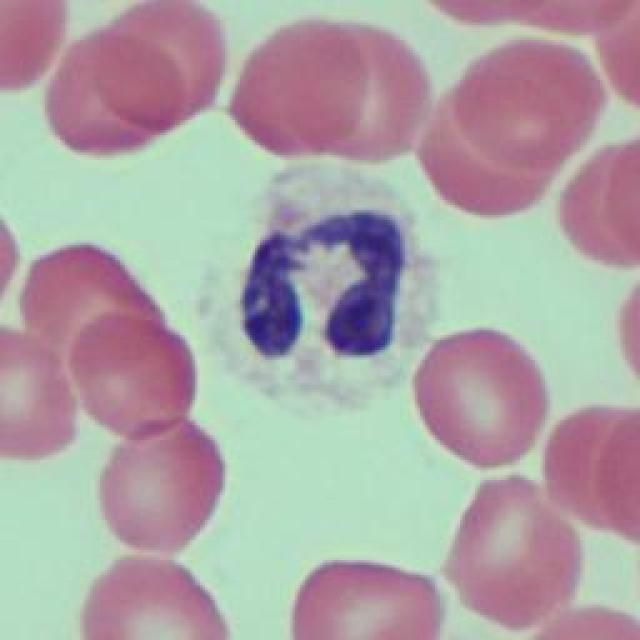RBC: (444, 475, 578, 633), (411, 326, 551, 469), (456, 36, 599, 176), (20, 244, 162, 374), (230, 20, 362, 158), (296, 28, 432, 158), (421, 94, 559, 221), (99, 0, 229, 132), (102, 426, 230, 552), (45, 40, 180, 155), (78, 312, 188, 440), (80, 555, 230, 640), (291, 557, 443, 640), (547, 405, 640, 530), (560, 148, 640, 270), (0, 330, 75, 460), (592, 412, 640, 548), (2, 0, 68, 95), (595, 0, 640, 105), (507, 0, 640, 32), (535, 607, 640, 640), (423, 0, 546, 22)
WBC: (194, 161, 438, 421)
